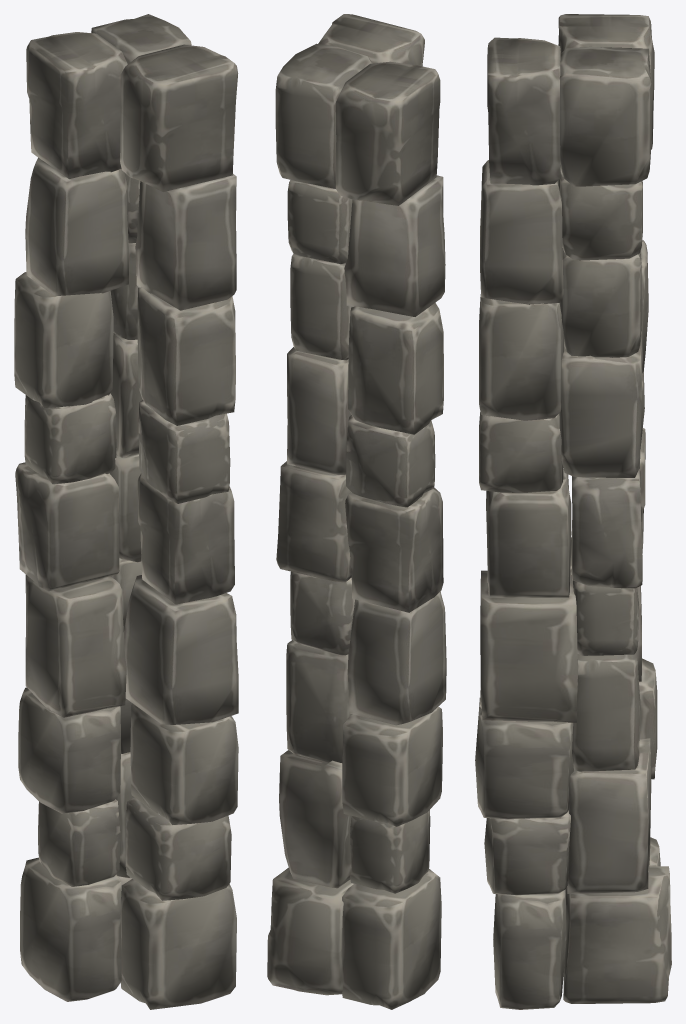
File: Corner_Exterior_Brick.gltf
3 views of the same model, side by side, from view 1: azimuth 30°, elevation 25°; view 2: azimuth 150°, elevation 25°; view 3: azimuth 270°, elevation 25° (orthographic). The views are drawn at different scales.
Parts seen in each view (by area): view 1: Corner_Exterior_Brick; view 2: Corner_Exterior_Brick; view 3: Corner_Exterior_Brick.
Part boxes in pixels (x1,y1,x2,y2): Corner_Exterior_Brick: (14,14,238,1009); Corner_Exterior_Brick: (267,14,446,1009); Corner_Exterior_Brick: (475,14,671,1009).
Size of the model in its own units: 0.5307 by 3.02 by 0.5758.
Materials: 1 (1 with a texture image).
